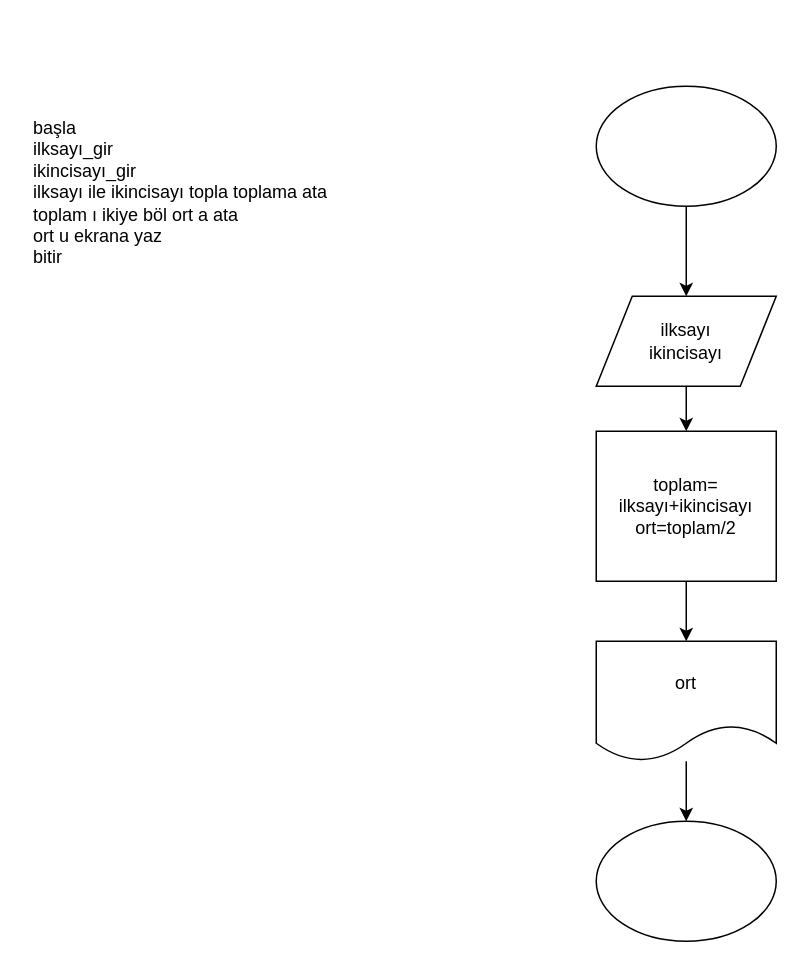
This 803x968 diagram has some shape labels left out. The shapes that lost their labels are listed below. From the top down, each one's box as (x1, y1, x2, y2) in pixels, then its label:
(595, 85, 776, 206): başla
(595, 820, 776, 941): bitir
